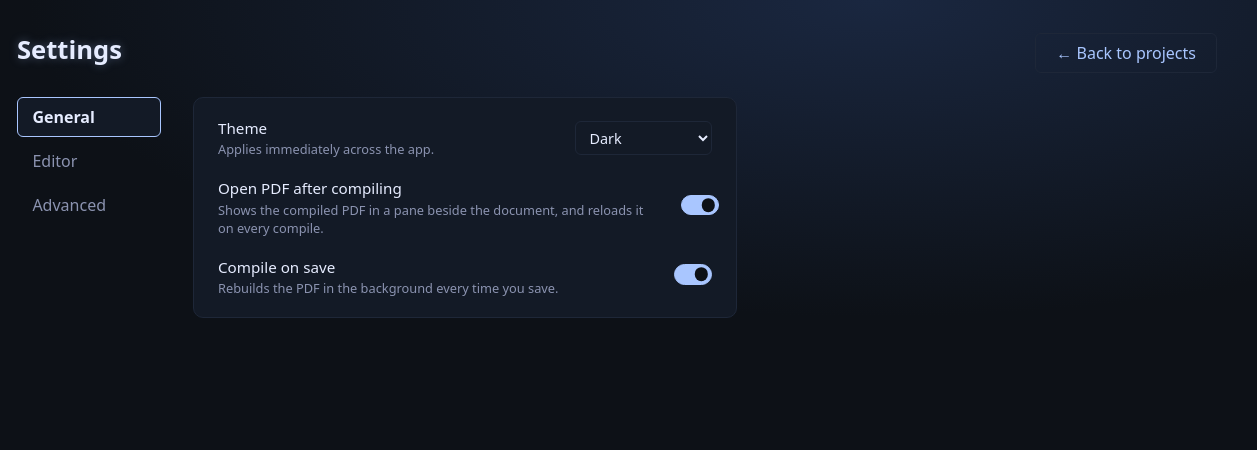
Scenario: Settings › sections › shows only the selected section's controls
The image size is (1257, 450).
Click the tab "Editor".
click(89, 161)  # box [17, 141, 161, 181]
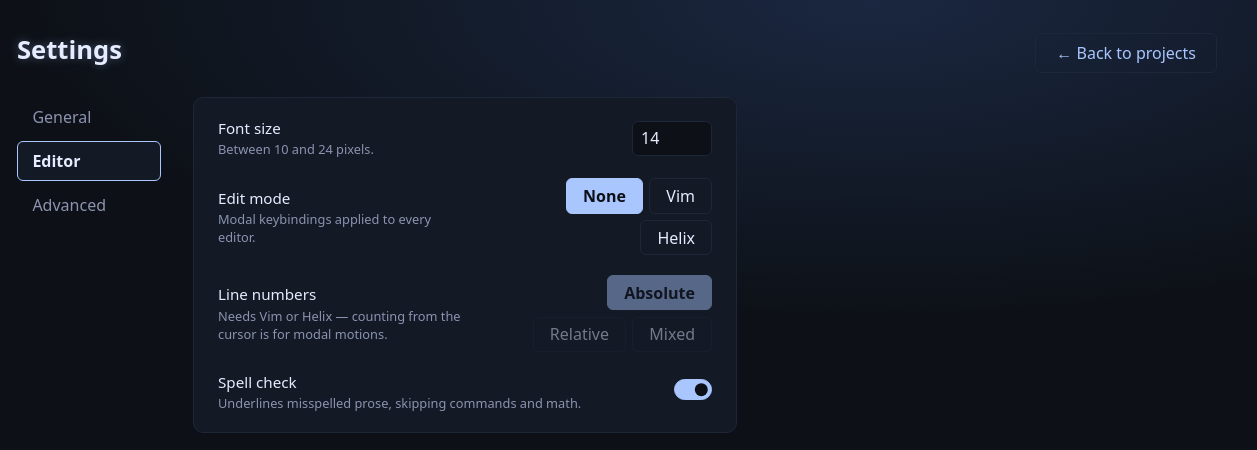
Now the number field is shown, box [632, 121, 712, 156]
Now the text "Theme" is gone
